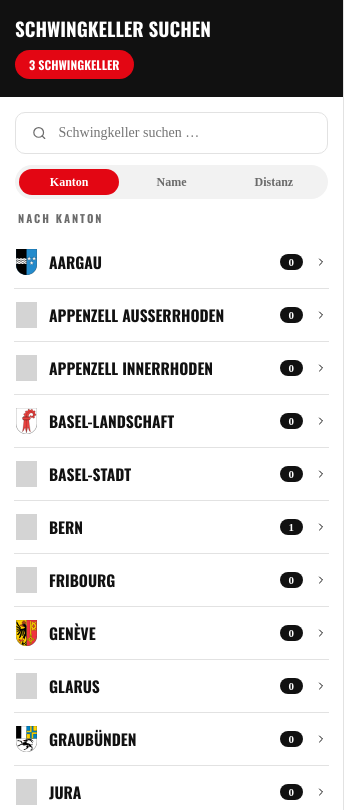
Scenario: Sidebar › flattens the list when sorting by name (no canton expand needed)
Click the radio button "Name" at (171, 182), box [121,169,222,195]
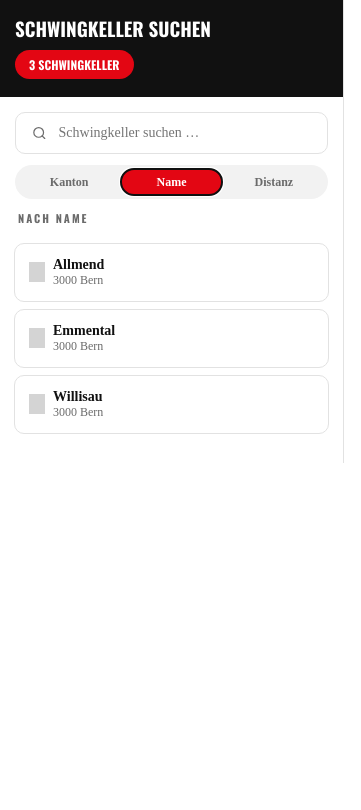
Check: the text "Allmend" is shown, box [53,257,104,272]
Check: the text "Emmental" is shown, box [53,323,115,338]
Check: the text "Willisau" is shown, box [53,389,102,404]
